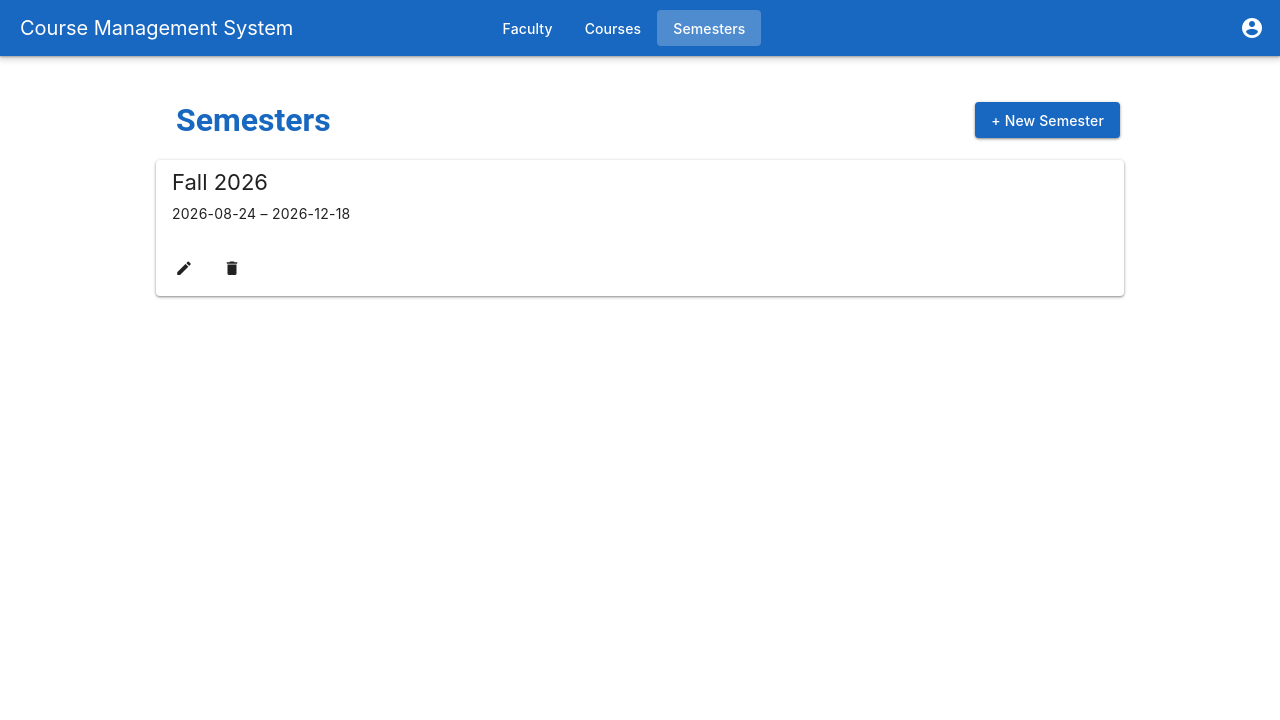
Test: Feature 2 — Semester Management › US-2.4 — Edit and delete semesters › Admin deletes a semester
Click the button named "Delete semester". click: (232, 268)
box: left=212, top=248, right=252, bottom=288
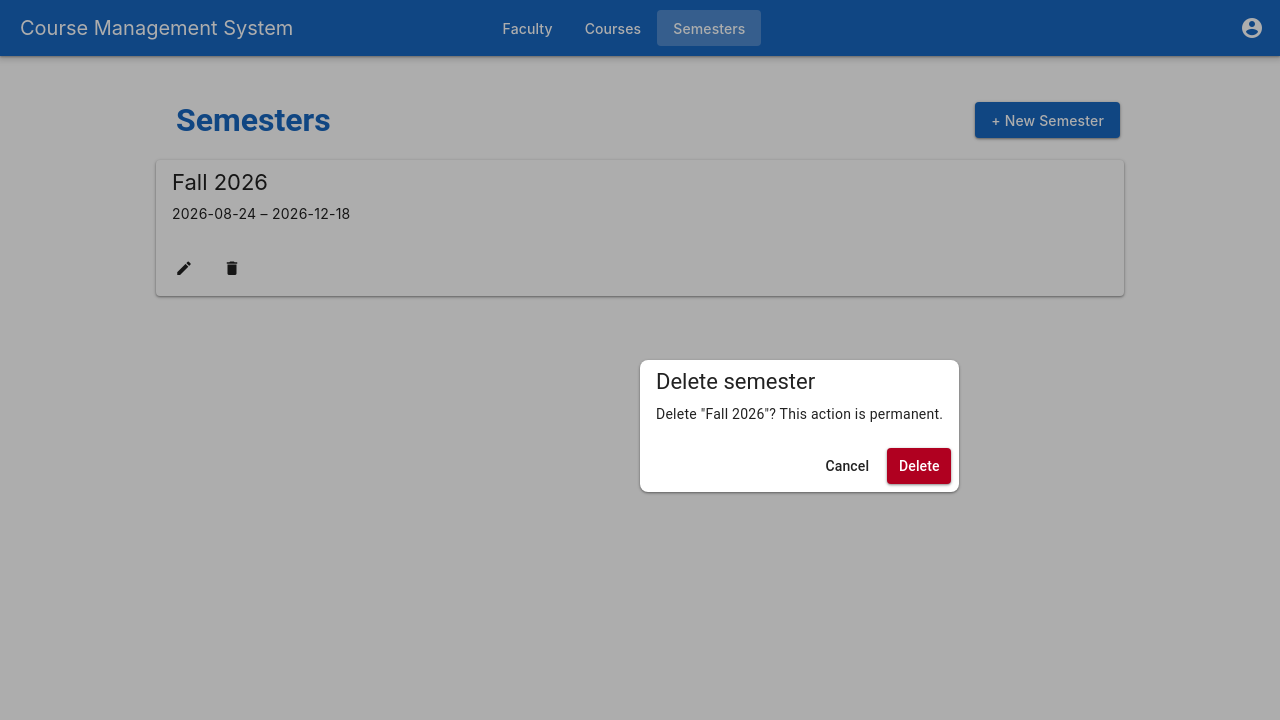
Check: the button "Delete" is shown
Click the button "Delete". click: (919, 466)
box: left=887, top=448, right=951, bottom=484
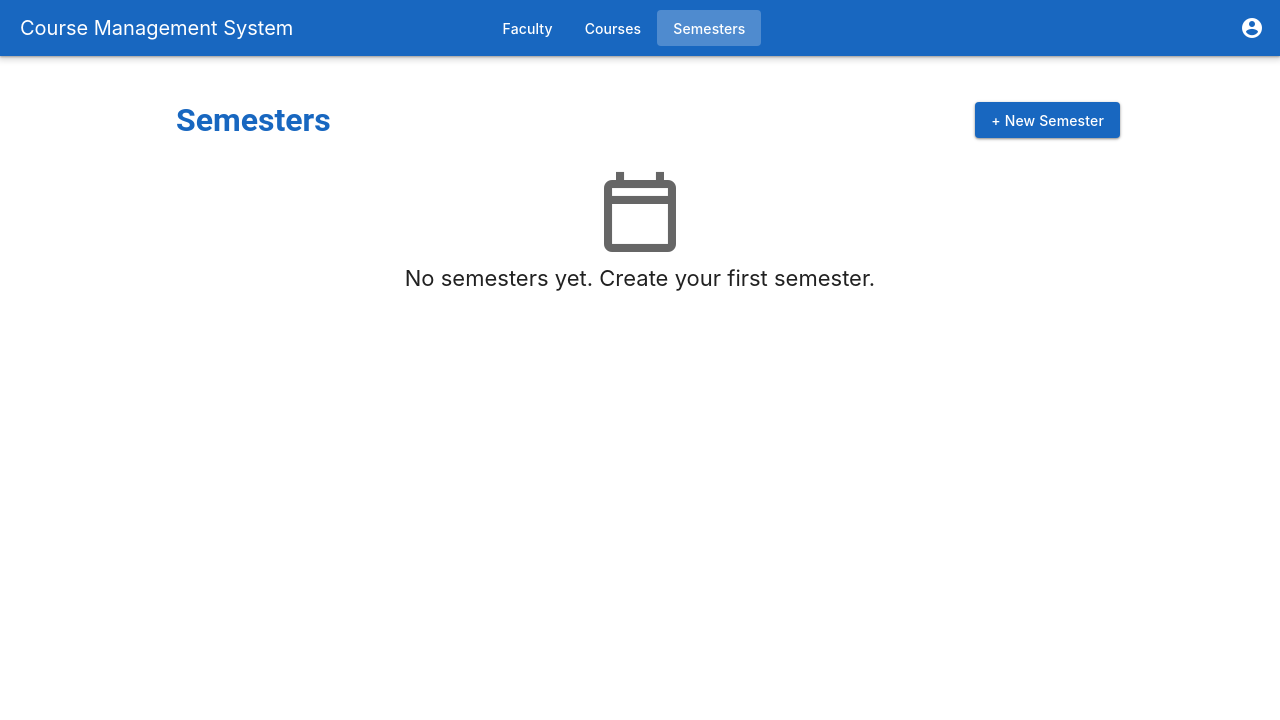
Check: the text "No semesters yet. Create your first semester." is shown, box left=405, top=264, right=875, bottom=292
